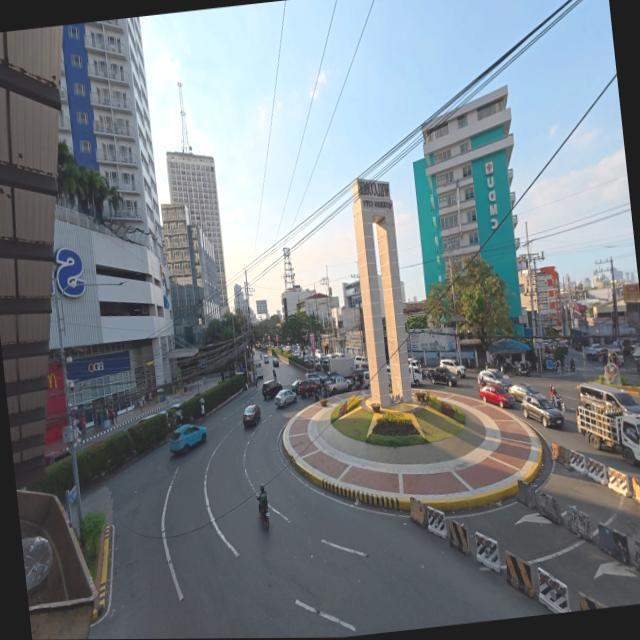car: (518, 390, 562, 431), (164, 422, 206, 457), (290, 374, 324, 399), (272, 385, 298, 407), (242, 405, 264, 431)
